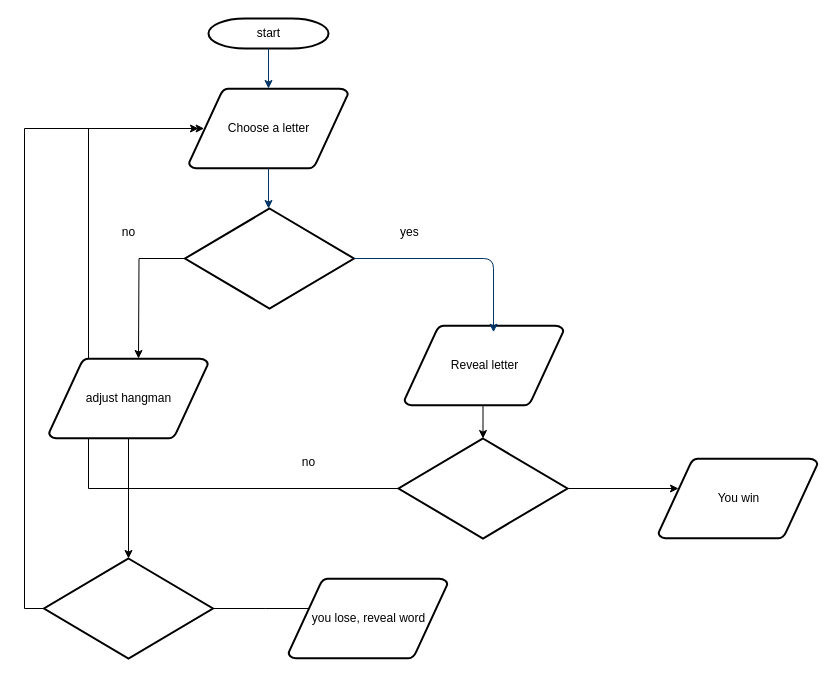
The diagram is 836 pixels wide and 676 high, and some of its shapes have lost their labels. The centre of each missing label's shape, as x and y in pixels:
"Is hangman complete" goes at point 128,608.
"Is letter part of the word" goes at point 269,258.
"Is word completed" goes at point 482,488.
